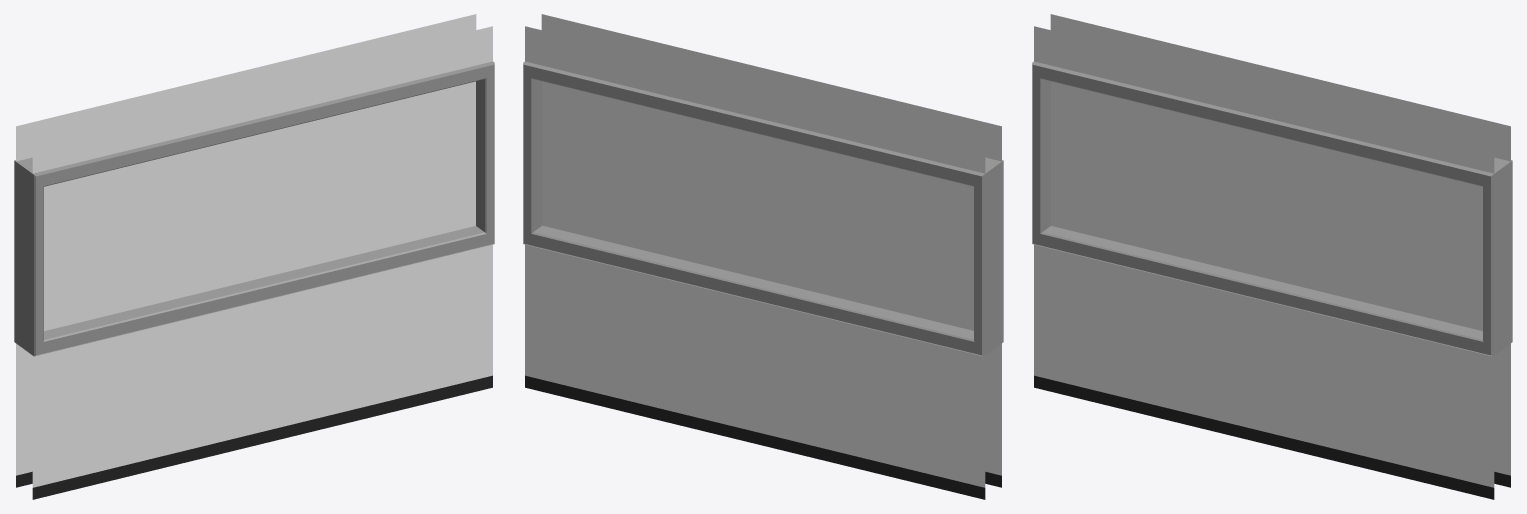
File: interiorWindowWall_line_4_white.fbx
The picture shows the model from 3 angles, left to right: view 1: azimuth 30°, elevation 25°; view 2: azimuth 150°, elevation 25°; view 3: azimuth 330°, elevation 25°; orthographic projection.
Parts seen in each view (by area): view 1: wall, glassWall; view 2: wall, glassWall; view 3: wall, glassWall.
Boxes of the visible parts, x1,y1,x2,y2 form: wall: (14,14,494,499); glassWall: (44,81,475,330); wall: (523,14,1003,499); glassWall: (542,81,973,330); wall: (1032,14,1512,499); glassWall: (1051,81,1482,330).
Bounding box in the file's own units: 400 × 300 × 31.96.
